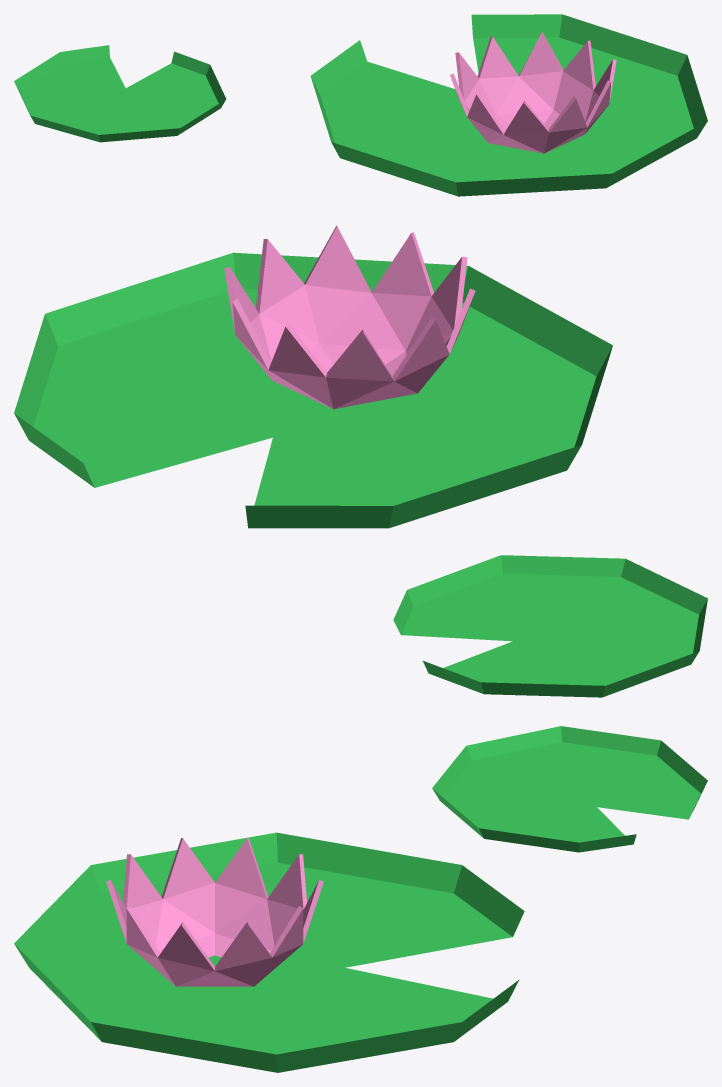
Rendered from waterLilyPad.fbx.
3 views of the same model, one above another, from view 1: azimuth 30°, elevation 25°; view 2: azimuth 150°, elevation 25°; view 3: azimuth 270°, elevation 25° (orthographic). The views are drawn at different scales.
Visible parts, largest first — view 1: Lilypad, Lilypad.001, WaterlilyFlower; view 2: Lilypad, Lilypad.001, WaterlilyFlower; view 3: Lilypad, Lilypad.001, WaterlilyFlower.
Part boxes in pixels (box(x1,y1,x2,y2)): Lilypad: box(310, 14, 707, 196); Lilypad.001: box(14, 45, 226, 142); WaterlilyFlower: box(450, 32, 616, 153); Lilypad: box(14, 252, 612, 528); Lilypad.001: box(393, 555, 707, 697); WaterlilyFlower: box(224, 225, 475, 409); Lilypad: box(14, 832, 524, 1072); Lilypad.001: box(432, 726, 707, 852); WaterlilyFlower: box(106, 838, 323, 986).
Size of the model in its own units: 4.22 by 0.5729 by 3.64.
